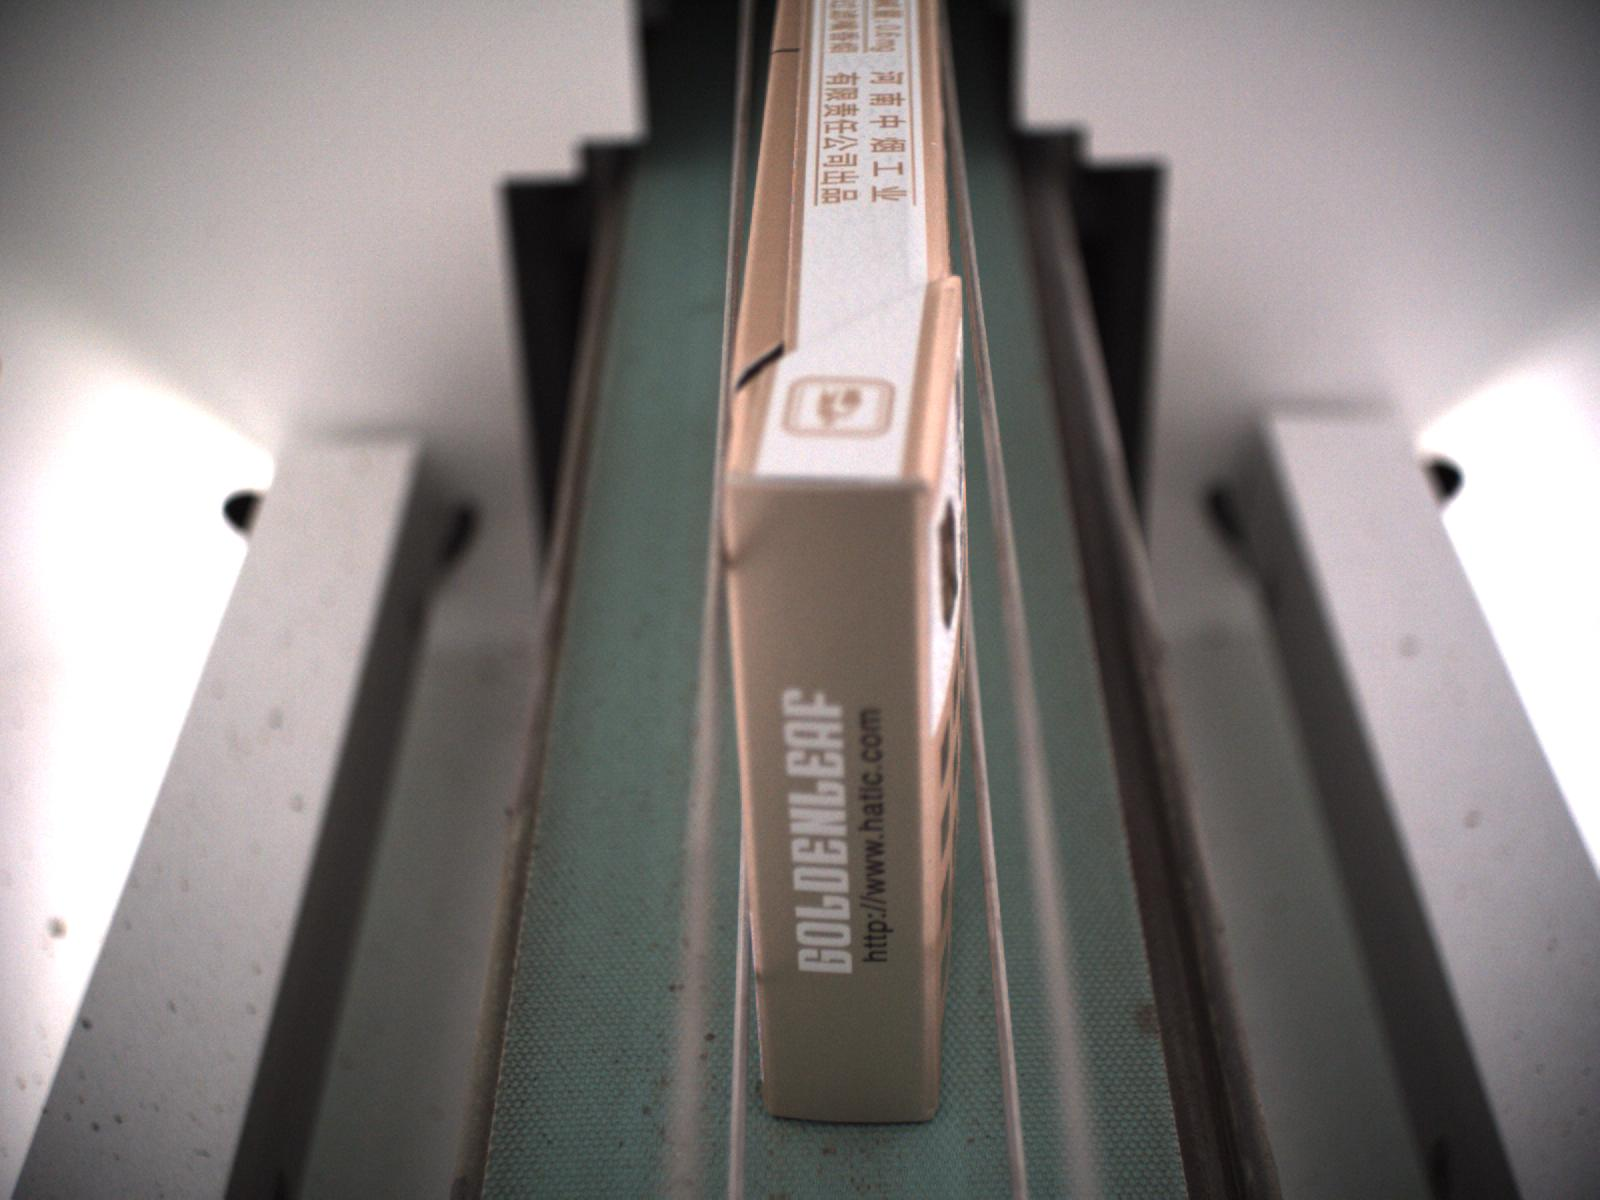boxDamage_back_heavy: (729, 4, 815, 395)
